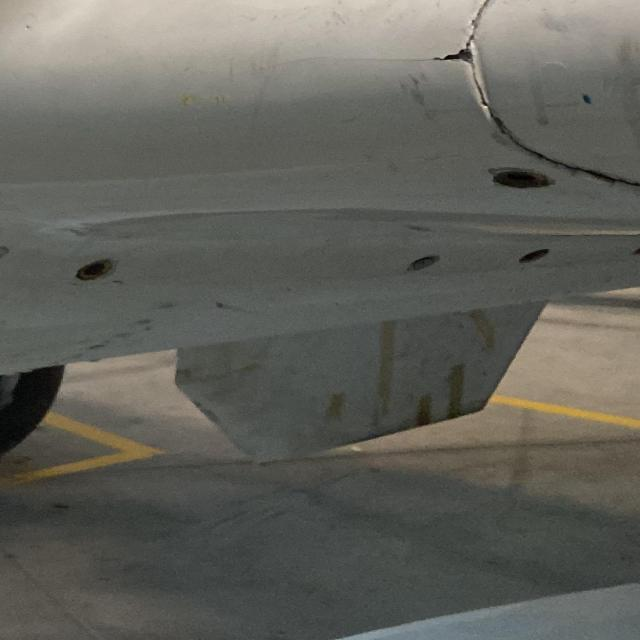Fastener Damage: (494, 165, 550, 194), (70, 255, 127, 282), (518, 250, 554, 266)
Rupture: (400, 46, 510, 76)
